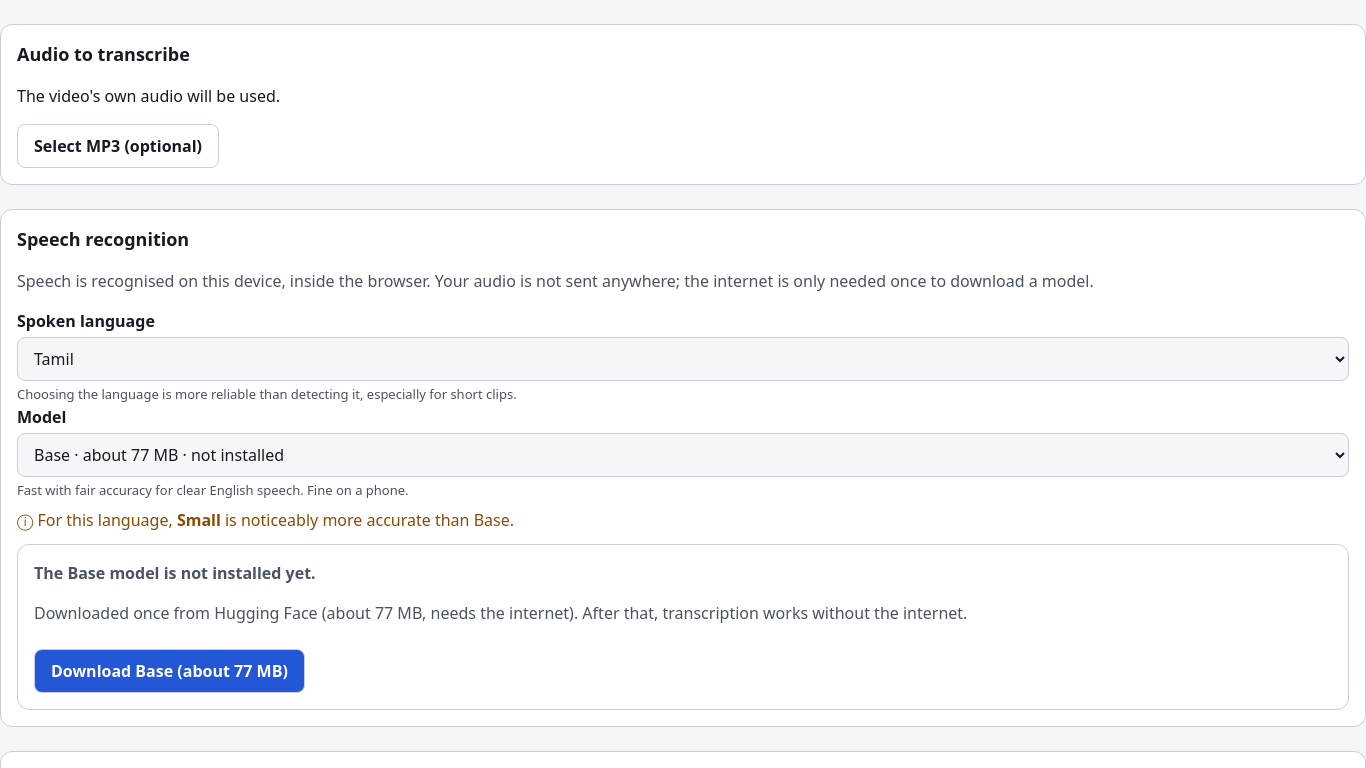
Test: Speech workflow › asks for the model download first, then allows transcription
The image size is (1366, 768).
Expected: the text "The Base model is not installed yet." is shown, [34,562,316,584]
Expected: the text "needs the internet" is shown, [393,602,967,624]
What coordinates should you click on to do the following:
click the button "Download Base (about 77 MB)"
I would click on:
 (169, 671)
Its box is [34,649,305,693].
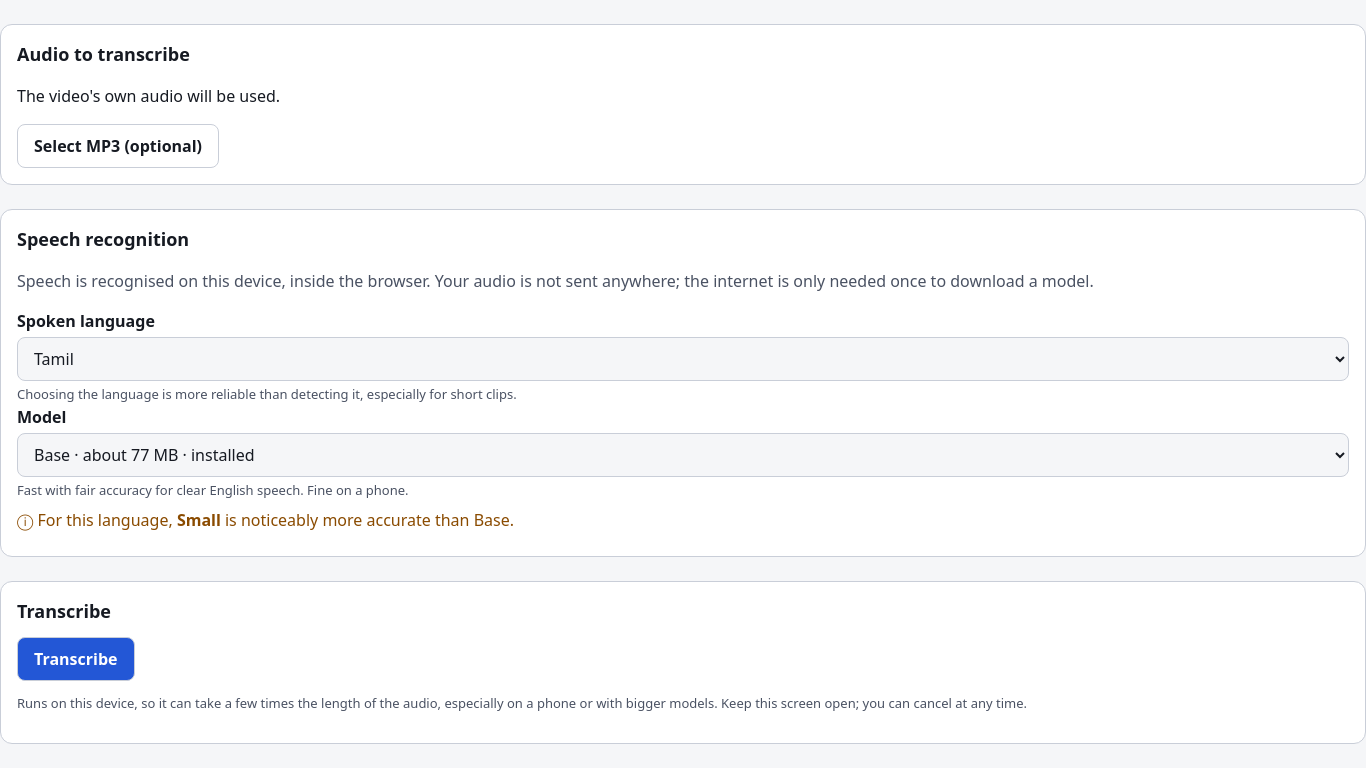
Expected: the button "Transcribe" is enabled, [17,637,134,681]
Expected: the text "not installed yet" is gone
